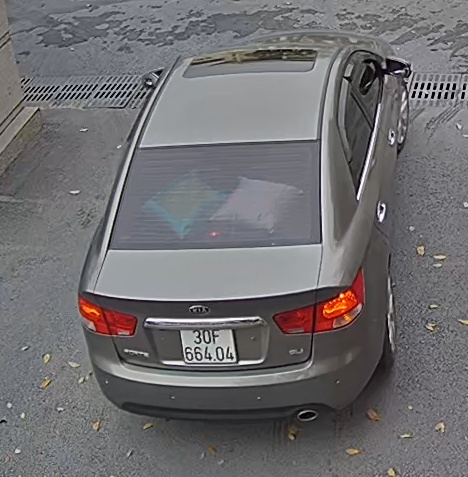vehicle plate: (174, 322, 237, 365)
